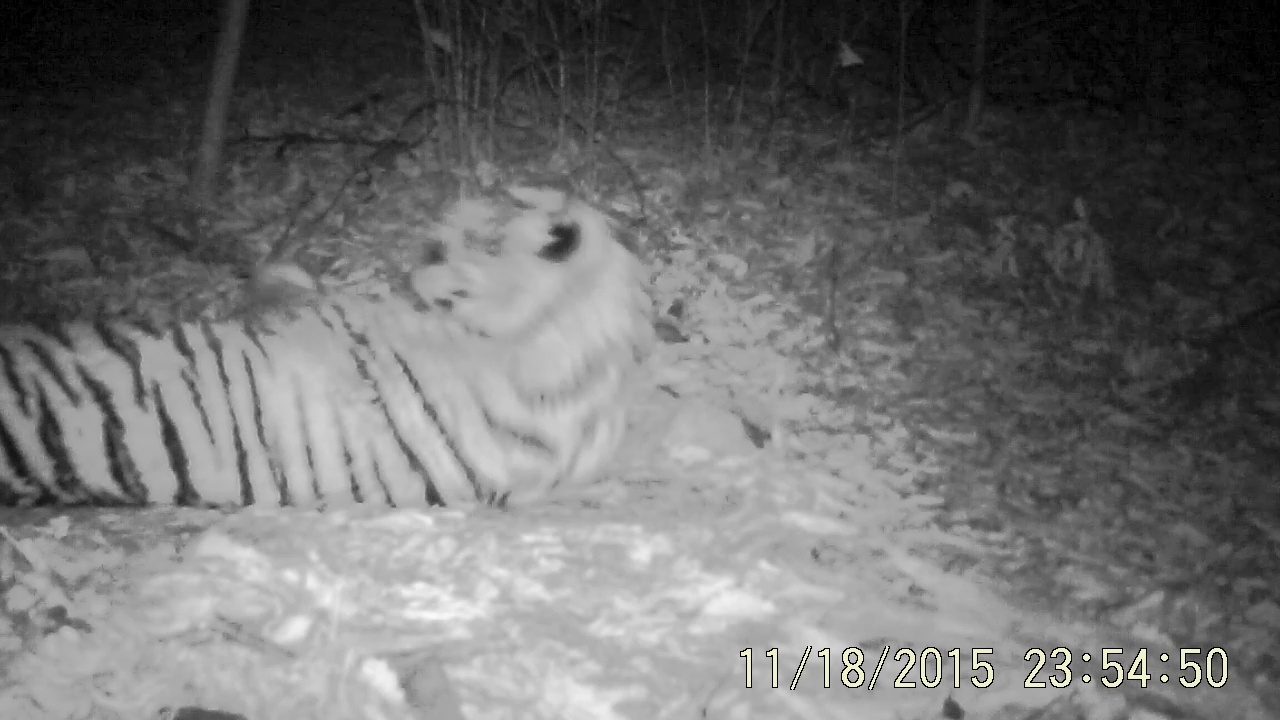Tiger: (7, 90, 865, 598)
